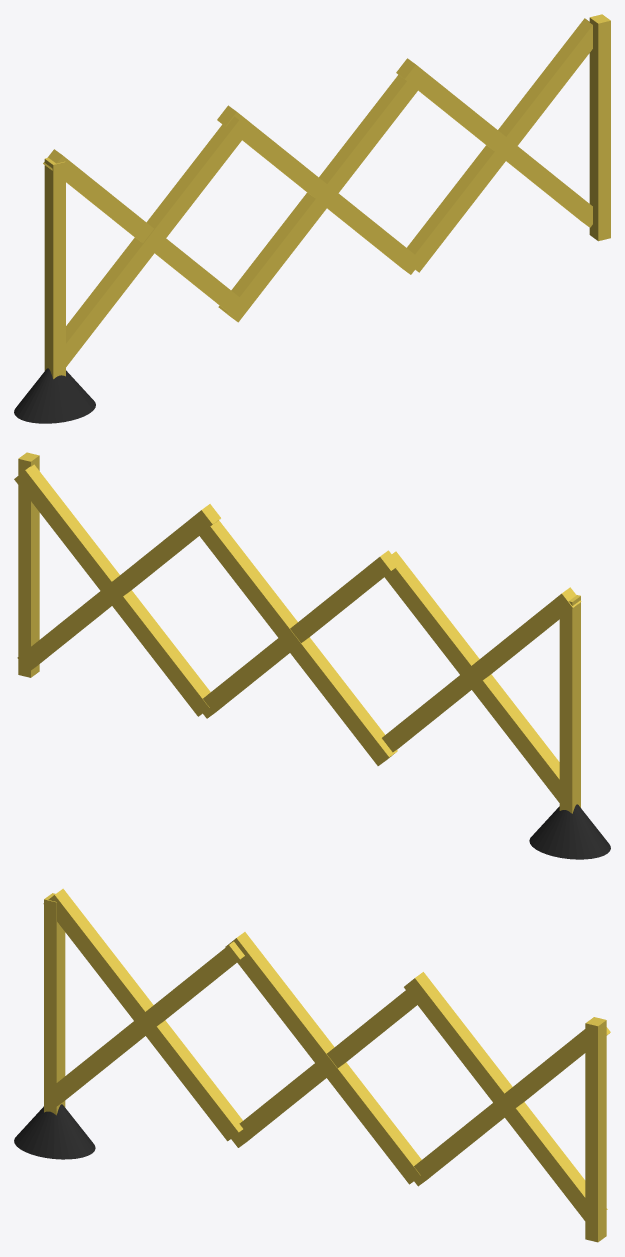
The model's file is police stopper.fbx.
3 views of the same model, one above another, from view 1: azimuth 30°, elevation 25°; view 2: azimuth 150°, elevation 25°; view 3: azimuth 330°, elevation 25° (orthographic).
Parts seen in each view (by area): view 1: Cube.002, Cube.006, Cube.004, Cube.001, Cube.007, Cube, Cube.005, Cube.003, Cone; view 2: Cube.006, Cube.004, Cube.002, Cube.003, Cube.007, Cube, Cube.005, Cube.001, Cone; view 3: Cube.005, Cube.003, Cube.007, Cube.001, Cube.002, Cube.004, Cube, Cube.006, Cone.
Part boxes in pixels (box(x1,y1,x2,y2)): Cube.002: box(54, 116, 250, 368); Cube.006: box(407, 18, 592, 272); Cube.004: box(218, 75, 423, 322); Cube.001: box(589, 14, 610, 241); Cube.007: box(396, 58, 592, 227); Cube: box(44, 157, 65, 379); Cube.005: box(217, 105, 421, 274); Cube.003: box(43, 149, 247, 318); Cone: box(14, 368, 95, 423); Cube.006: box(14, 464, 210, 716); Cube.004: box(199, 520, 397, 765); Cube.002: box(384, 551, 562, 803); Cube.003: box(382, 587, 581, 752); Cube.007: box(17, 504, 220, 671); Cube: box(559, 595, 580, 813); Cube.005: box(203, 550, 399, 718); Cube.001: box(18, 452, 39, 677); Cone: box(529, 804, 610, 859); Cube.005: box(225, 932, 421, 1184); Cube.003: box(43, 888, 242, 1141); Cube.007: box(404, 972, 607, 1220); Cube.001: box(585, 1017, 606, 1242); Cube.002: box(45, 941, 244, 1106); Cube.004: box(231, 986, 422, 1147); Cube: box(44, 893, 65, 1115); Cube.006: box(414, 1018, 610, 1186); Cone: box(14, 1104, 95, 1159).
Bounding box in the file's own units: 1566 × 652 × 152.
